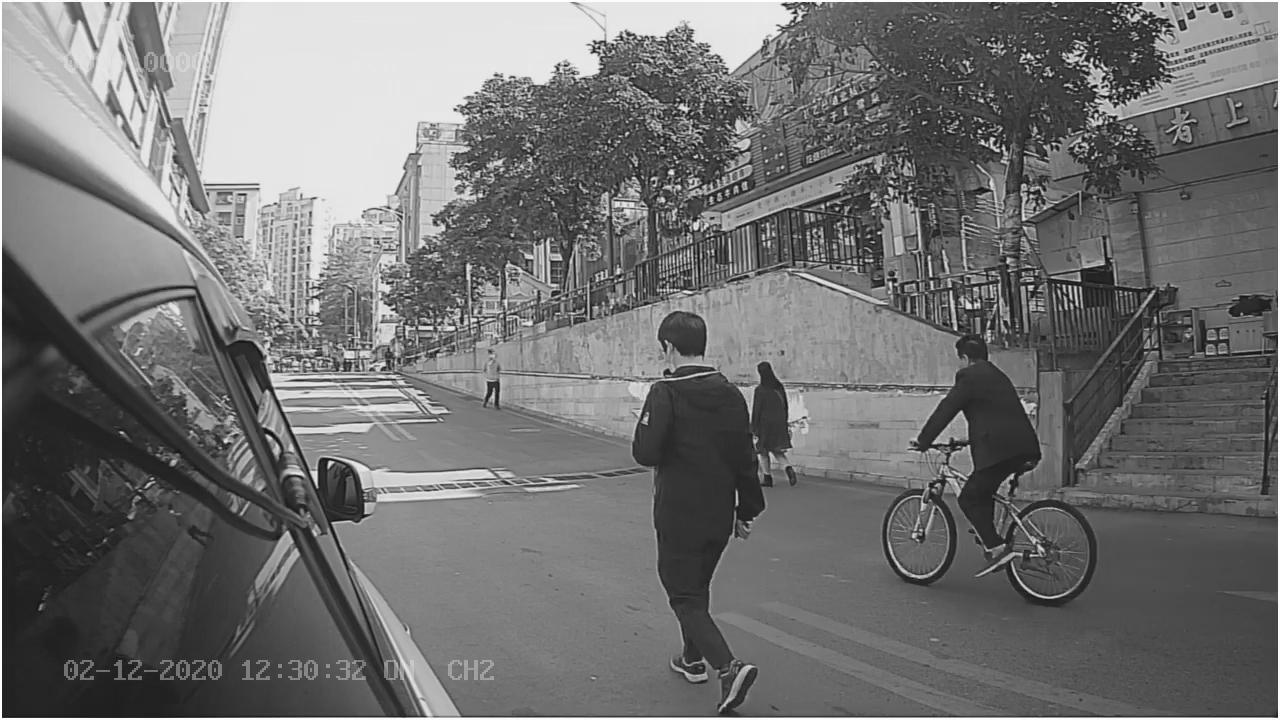person: (628, 294, 769, 715)
